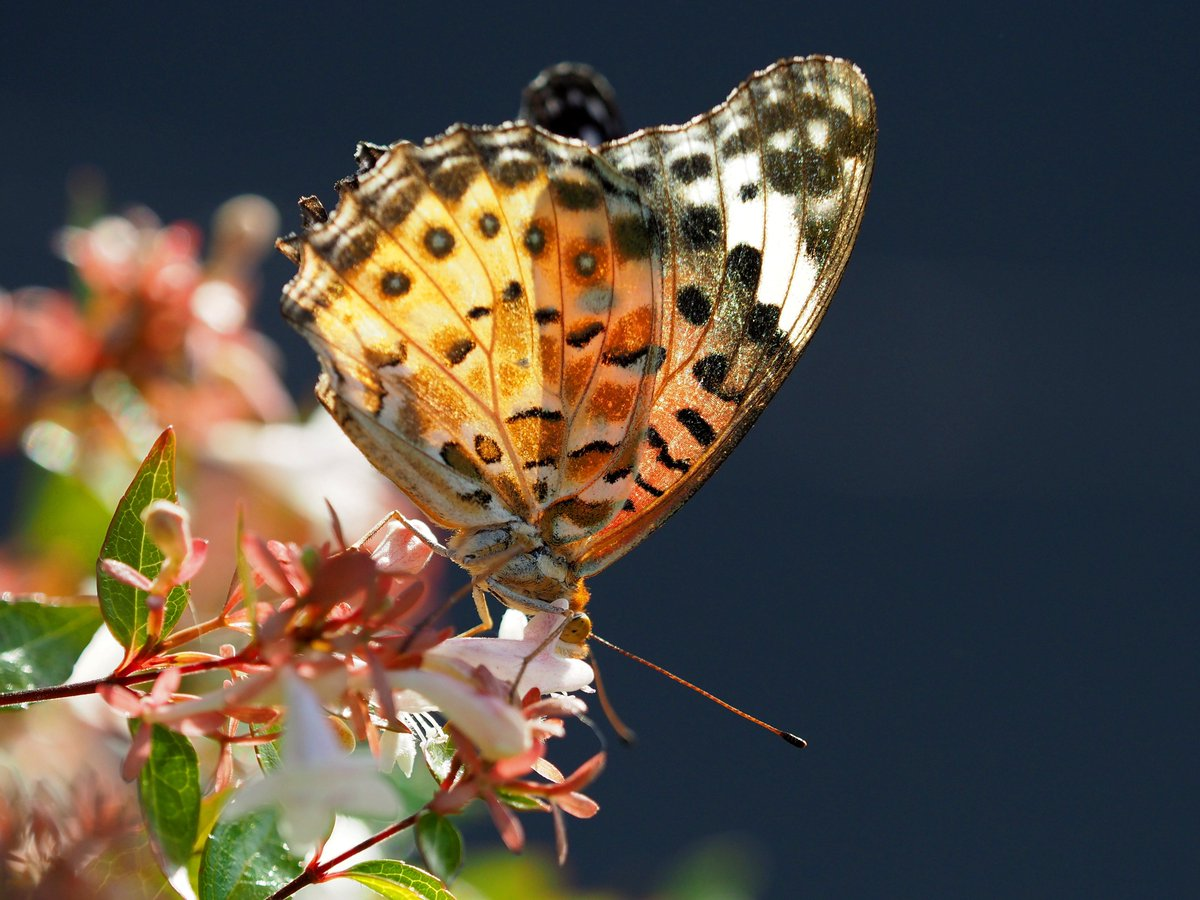Argyreus hyperbius: (270, 47, 884, 753)
butterfly: (272, 49, 886, 755)
